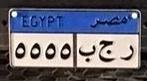5: (58, 42, 72, 62), (29, 40, 42, 61), (44, 42, 57, 62), (13, 41, 26, 60)
baa: (78, 43, 96, 64)
jeem: (97, 38, 115, 64)
raa: (117, 42, 136, 63)
